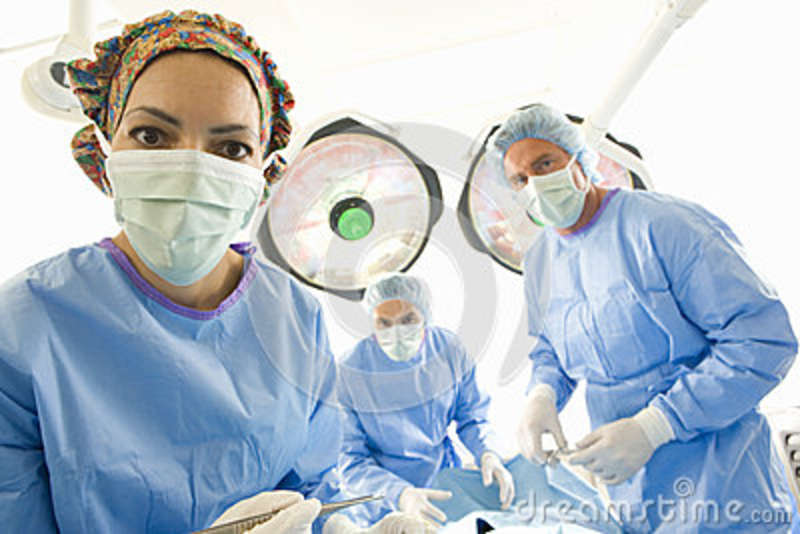mask: (97, 149, 273, 283), (520, 175, 586, 223), (374, 327, 427, 366)
